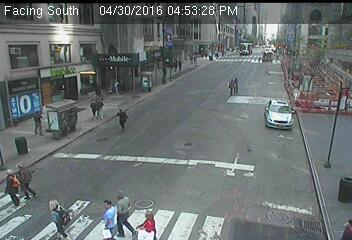neg: (163, 140, 189, 175), (303, 152, 328, 186), (299, 66, 324, 100), (86, 145, 110, 178), (278, 39, 300, 68), (245, 159, 266, 187), (173, 88, 194, 115), (130, 46, 150, 72), (266, 108, 283, 131), (21, 78, 37, 100), (189, 46, 204, 66), (44, 53, 57, 70), (243, 39, 255, 55)
pos: (116, 189, 143, 226), (44, 194, 71, 230), (1, 168, 25, 200), (18, 162, 42, 193), (93, 195, 116, 226), (223, 78, 243, 103), (26, 110, 45, 136), (115, 104, 134, 129), (83, 95, 98, 115), (145, 212, 159, 231)
